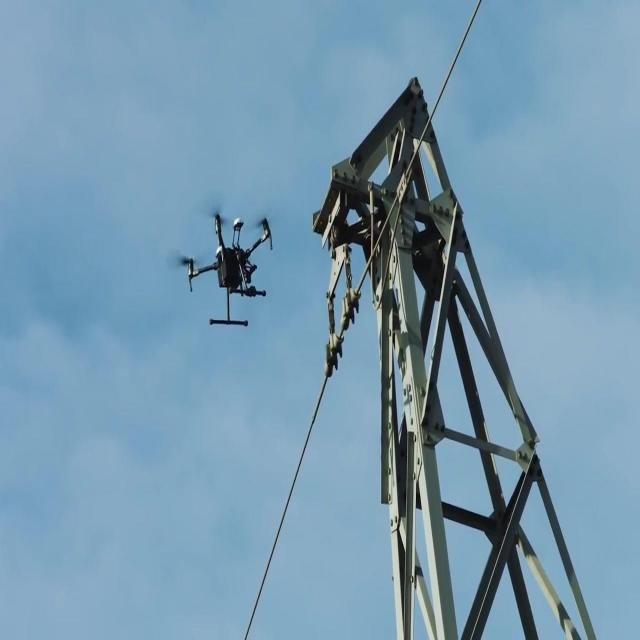UAV: (177, 209, 273, 327)
